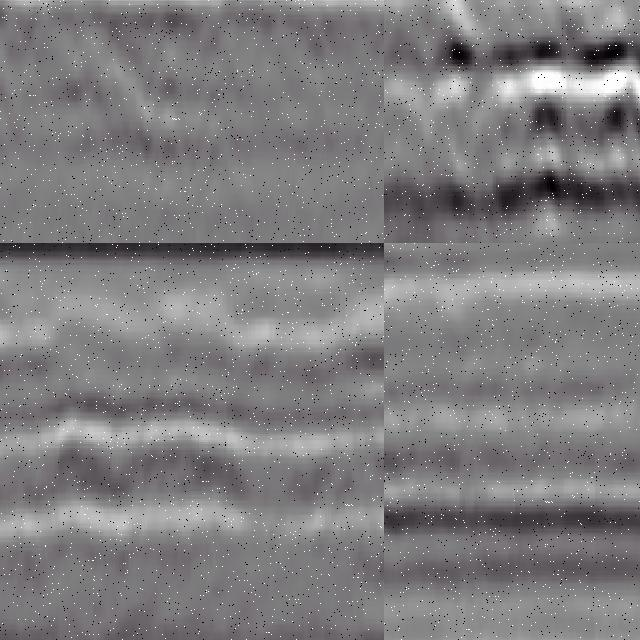loose: (395, 1, 640, 244), (1, 1, 213, 165)
